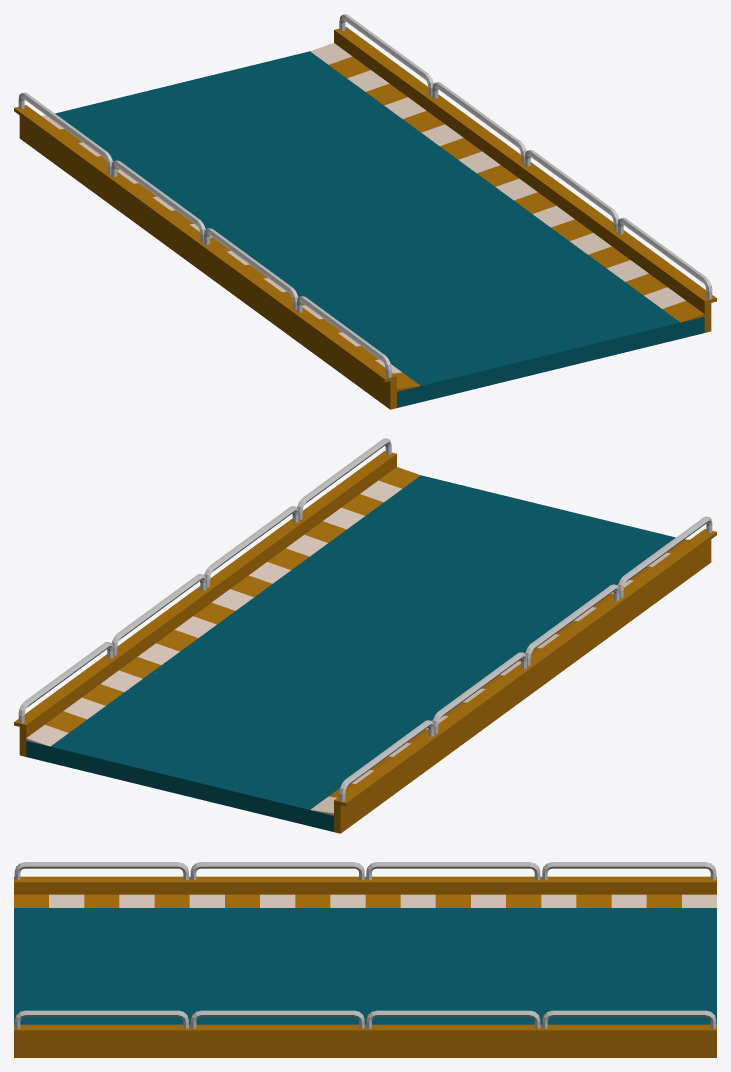
The model's file is straight_m.FBX.
3 views of the same model, one above another, from view 1: azimuth 30°, elevation 25°; view 2: azimuth 150°, elevation 25°; view 3: azimuth 270°, elevation 25° (orthographic). The views are drawn at different scales.
Parts seen in each view (by area): view 1: straight_m, wall_r, wall_l, curbs_l, curbs_r; view 2: straight_m, wall_r, wall_l, curbs_l, curbs_r; view 3: straight_m, wall_l, wall_r, curbs_r.
Part boxes in pixels (x1,y1,x2,y2): straight_m: [55, 51, 704, 407]; wall_r: [14, 92, 396, 409]; wall_l: [334, 14, 716, 332]; curbs_l: [310, 43, 704, 322]; curbs_r: [42, 115, 420, 391]; straight_m: [26, 475, 675, 831]; wall_r: [334, 516, 716, 833]; wall_l: [14, 438, 396, 756]; curbs_l: [26, 467, 420, 746]; curbs_r: [310, 539, 688, 815]; straight_m: [14, 908, 716, 1024]; wall_l: [14, 1010, 716, 1057]; wall_r: [14, 862, 716, 894]; curbs_r: [14, 894, 716, 907].
Size of what is drawn, in the model's own units: 207 by 29.31 by 400.
